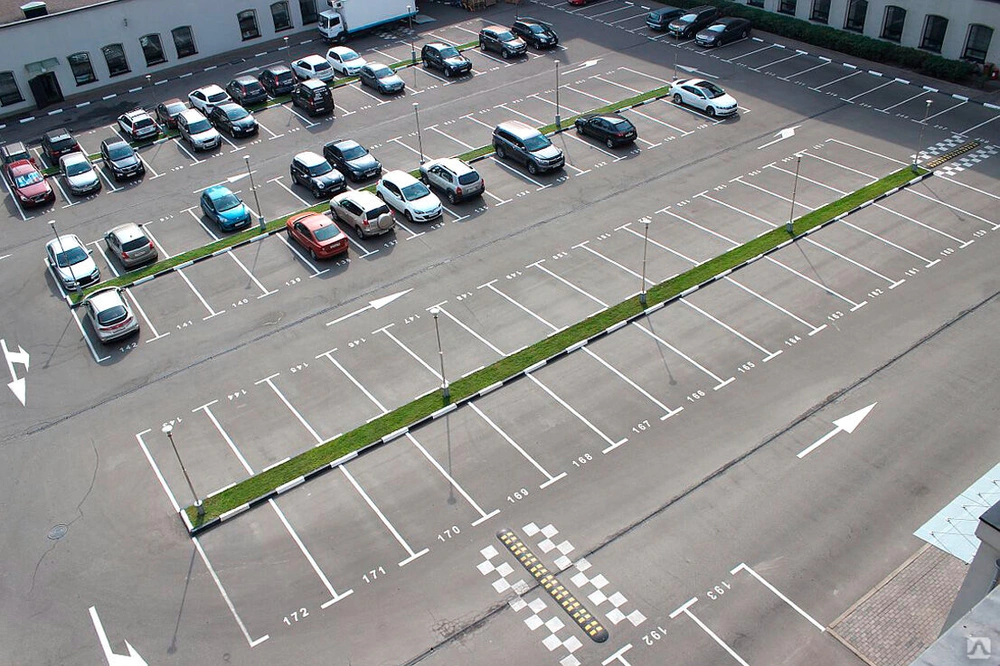Car: (318, 0, 418, 44), (492, 121, 565, 176), (376, 170, 445, 225), (81, 287, 141, 343), (329, 190, 395, 239), (286, 212, 349, 261), (45, 235, 100, 291), (420, 157, 486, 203), (669, 78, 739, 119), (104, 222, 160, 270), (322, 139, 383, 183), (290, 152, 346, 198), (199, 185, 252, 233), (4, 158, 54, 208), (575, 115, 638, 150), (176, 108, 223, 153), (100, 137, 145, 184), (59, 152, 101, 197), (421, 42, 472, 78), (694, 18, 752, 48), (210, 103, 259, 138), (668, 6, 719, 39), (478, 26, 528, 59), (291, 80, 334, 118), (511, 17, 559, 50), (117, 109, 162, 143), (41, 129, 80, 167), (360, 63, 405, 95), (188, 84, 232, 116), (258, 65, 298, 98), (227, 76, 269, 107), (291, 55, 335, 84), (326, 47, 367, 77), (155, 99, 189, 130), (646, 7, 685, 32), (0, 142, 34, 168), (566, 0, 605, 6)
